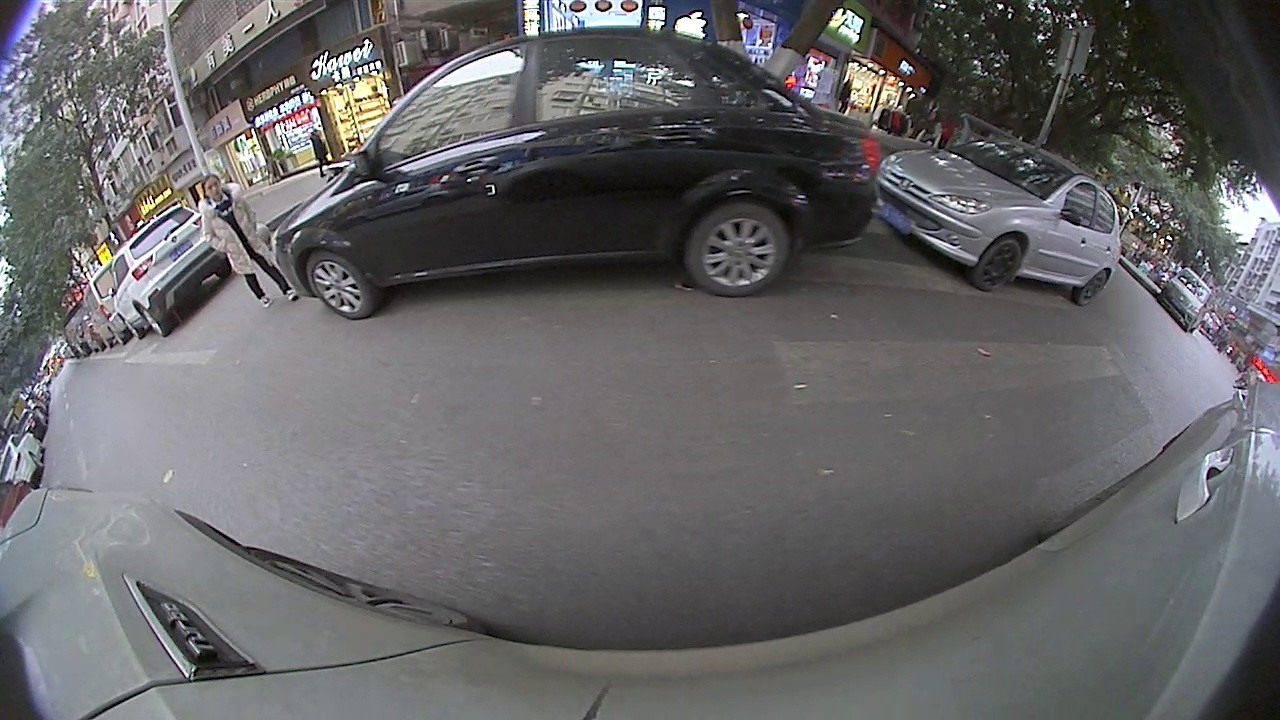car: (274, 27, 875, 321), (874, 136, 1123, 308), (113, 205, 233, 338), (1158, 269, 1214, 330), (88, 269, 127, 344), (2, 433, 45, 489), (2, 476, 35, 528)
front: (305, 254, 377, 316), (978, 234, 1021, 289)
person: (200, 173, 244, 313)
rear: (689, 204, 791, 295), (1075, 261, 1111, 311)
